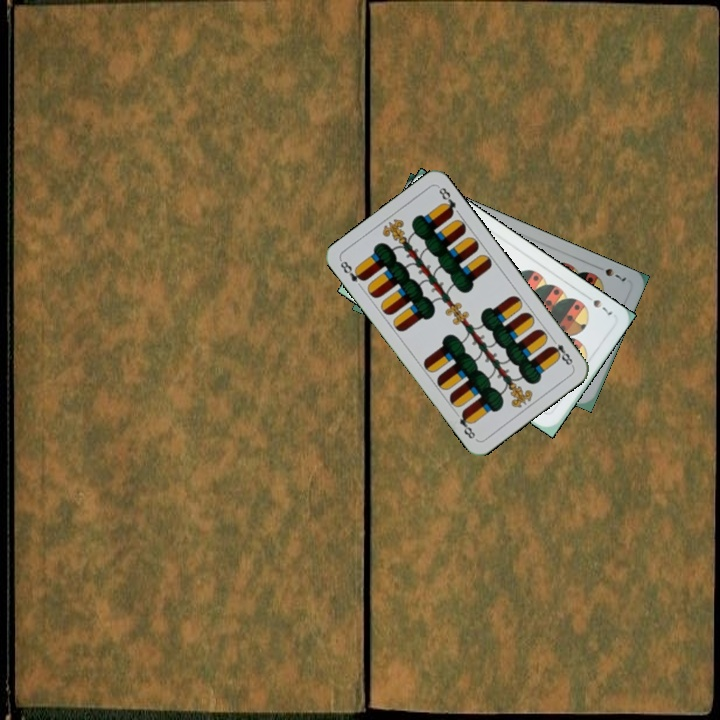E8: (546, 334, 576, 369), (336, 256, 368, 285)
S7: (581, 291, 615, 319), (592, 261, 629, 284)
